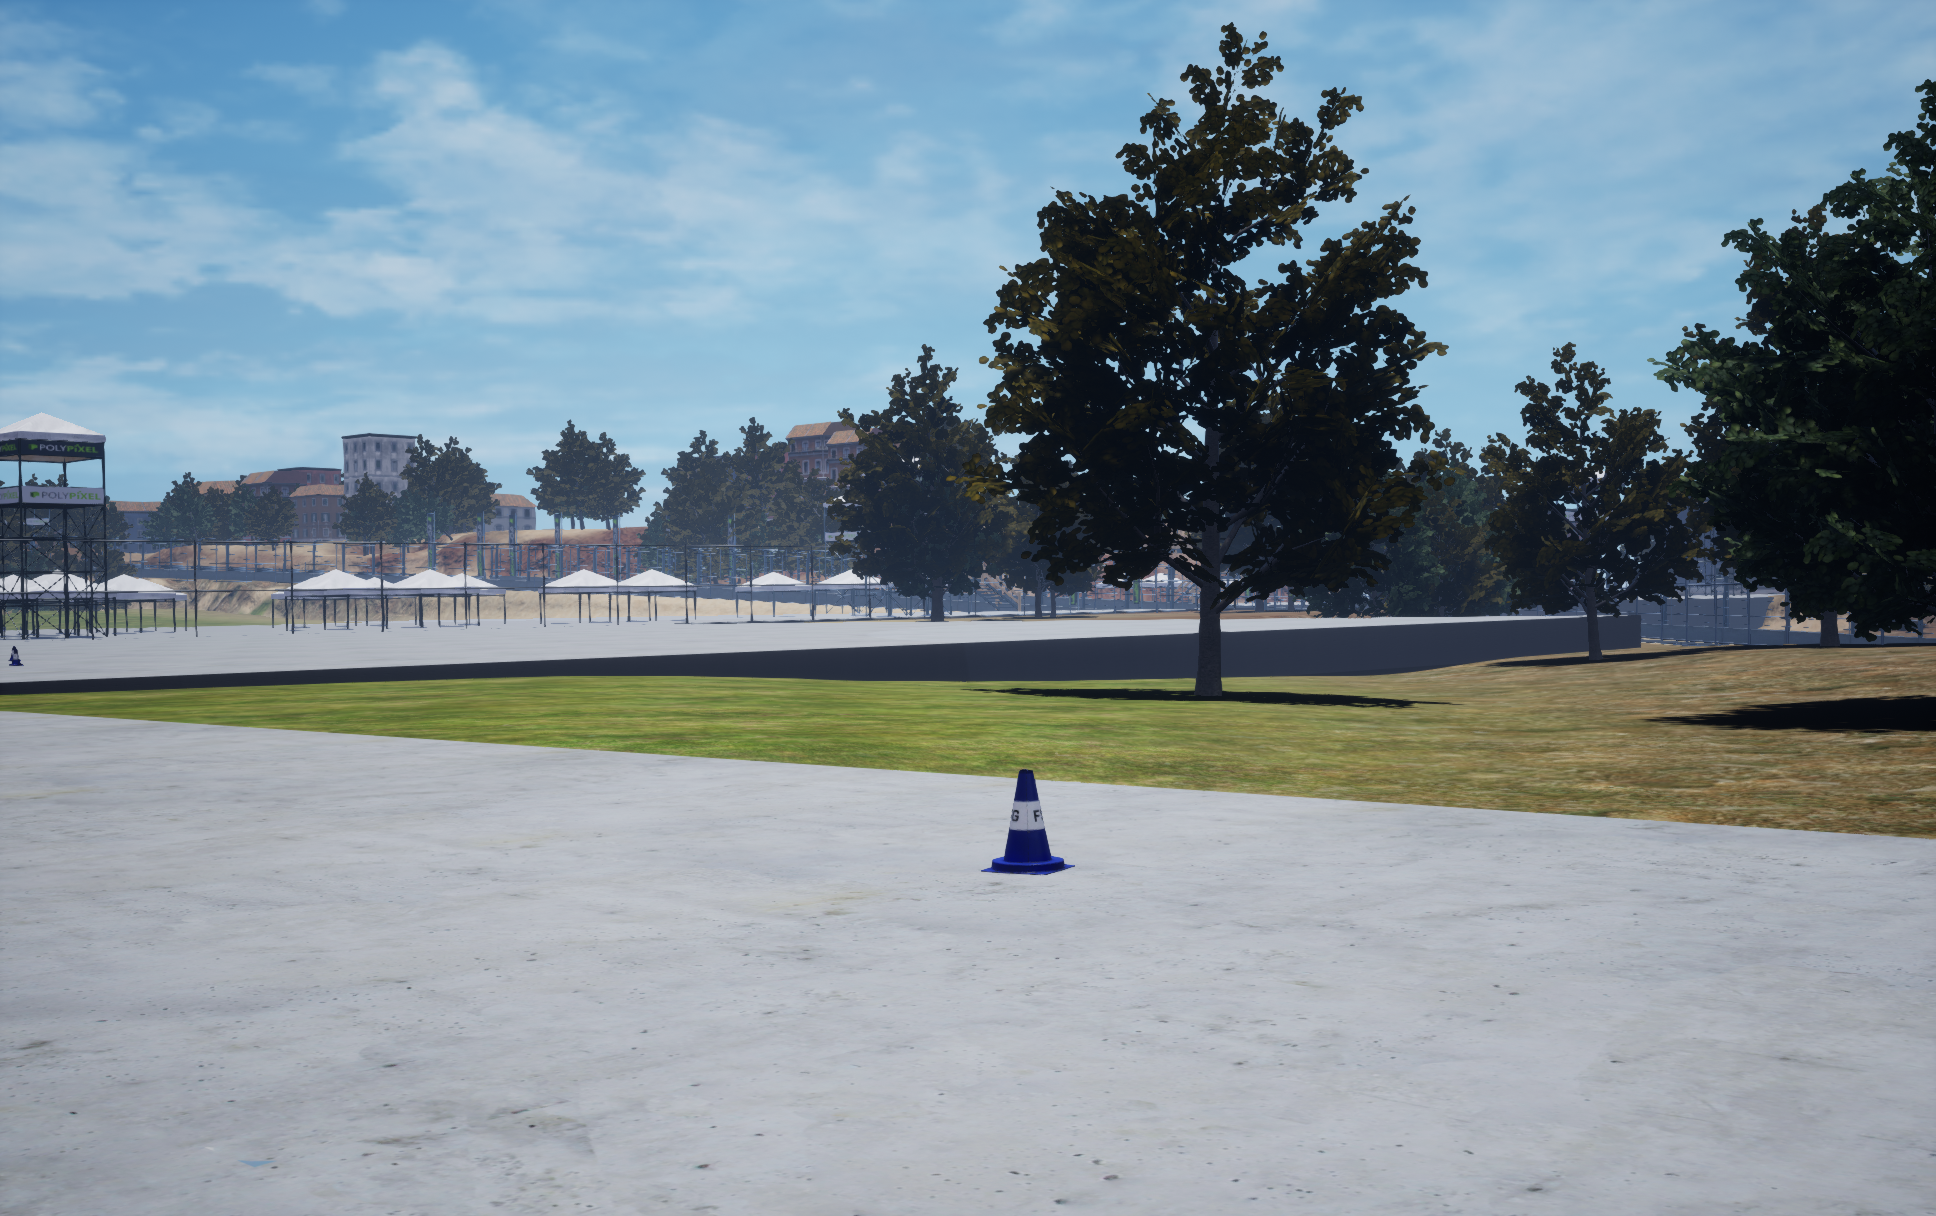yellow: (981, 769, 1074, 874)
